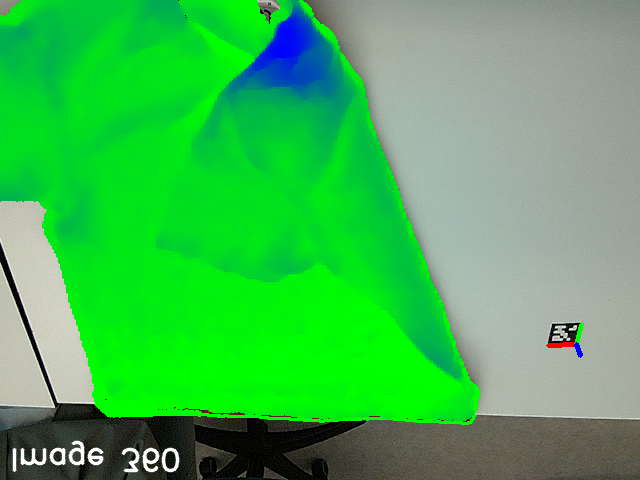V: (139, 209, 197, 263)
